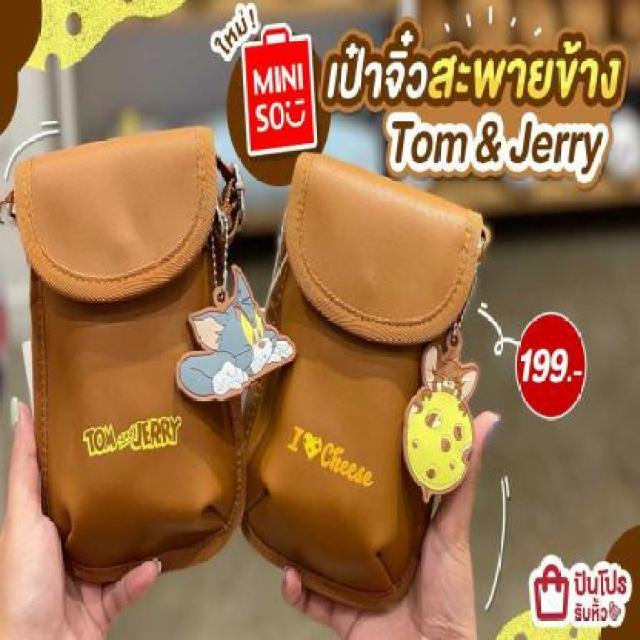Bag: (4, 98, 258, 616), (250, 132, 496, 640)
